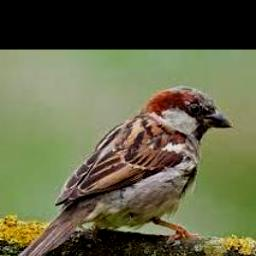Sparrow: (11, 86, 233, 256)
